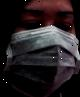with_mask: (1, 2, 80, 97)
